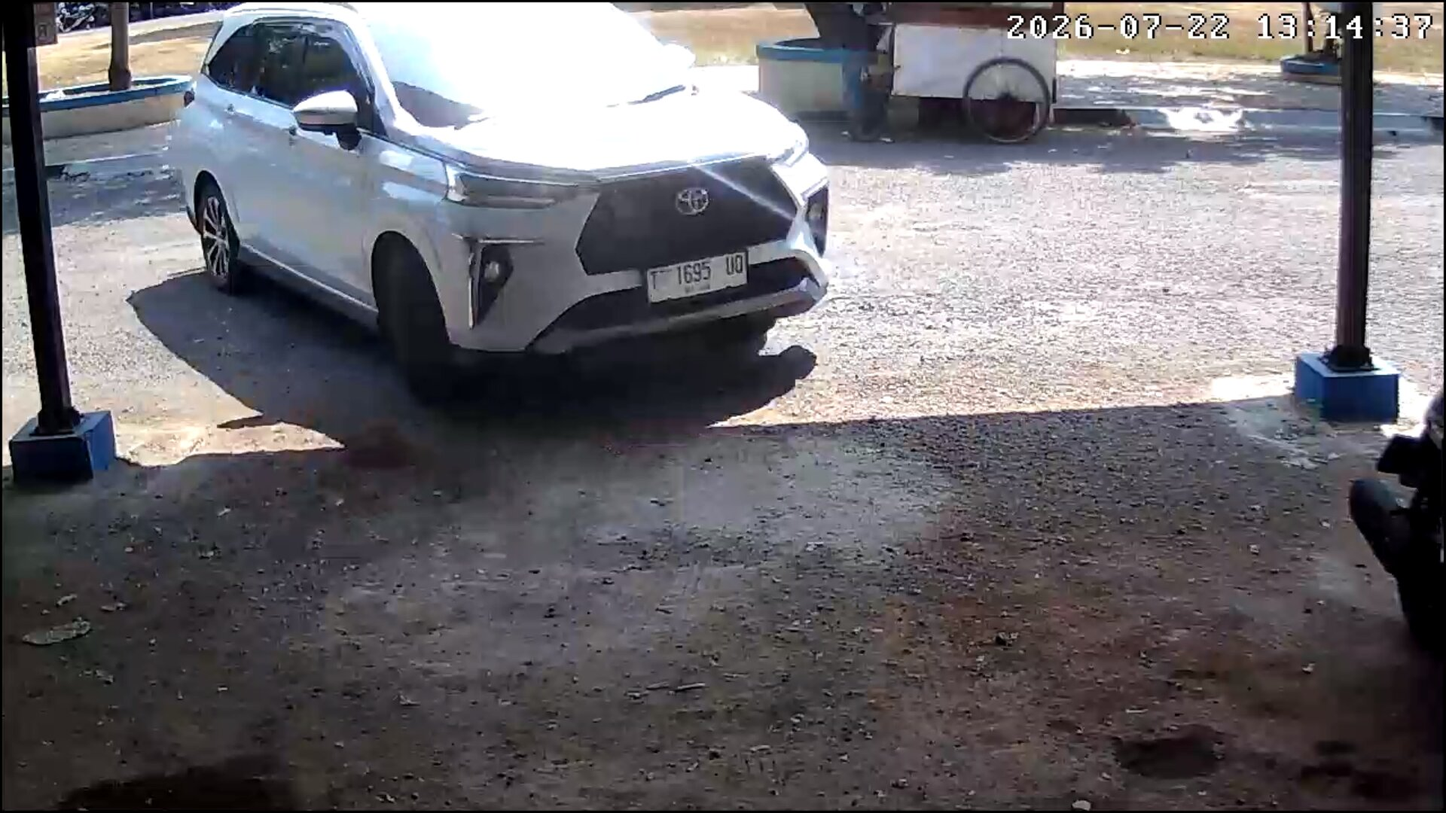plat nomor: (646, 249, 747, 308)
